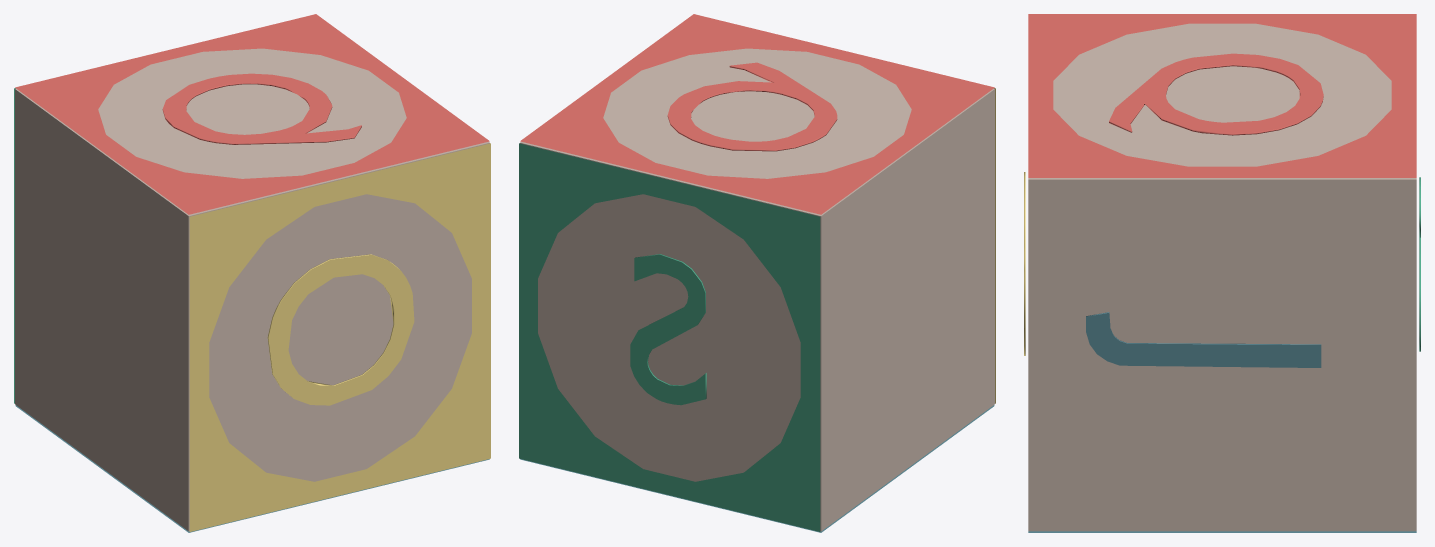
3 renders of one model, left to right at view 1: azimuth 30°, elevation 25°; view 2: azimuth 150°, elevation 25°; view 3: azimuth 270°, elevation 25°, orthographic. The views are drawn at different scales.
Parts seen in each view (by area): view 1: cube; view 2: cube; view 3: cube.
Boxes of the visible parts, box(x1,y1,x2,y2) form: cube: box(14, 14, 490, 532); cube: box(519, 14, 995, 532); cube: box(1024, 14, 1420, 532).
Size of the model in its own units: 0.0453 by 0.046 by 0.046.
